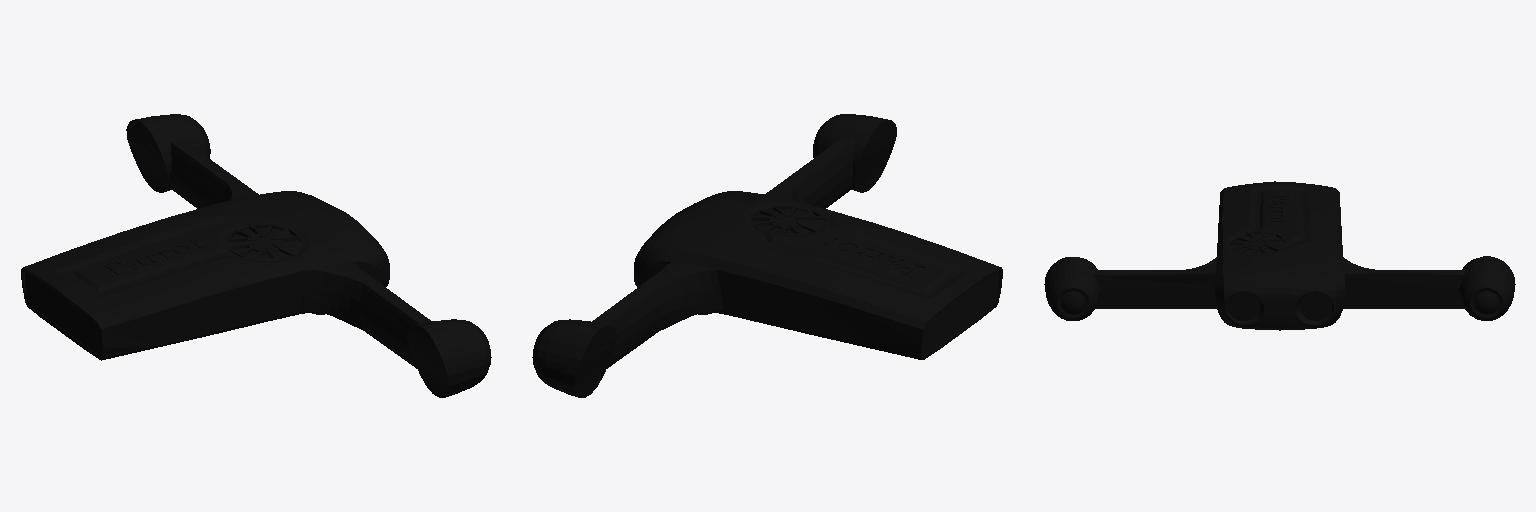
The robot description file, URDF, robot "robot_name":
<robot name="robot_name">
    <link name="cam0">
        <visual name="all">
            <origin xyz="0 0 0" rpy="3.14 0 -1.57" />
            <geometry>
                <mesh filename="package://slamdunk_visualization/models/slamdunk.stl" />
            </geometry>
            <material name="material_black">
                <color rgba="0.1 0.1 0.1 1.0"/>
            </material>
        </visual>
    </link>
</robot>

--- Facts derived from the render (not from the file) ---
Views: 3 orthographic renders of the robot side by side, from view 1: azimuth 30°, elevation 25°; view 2: azimuth 150°, elevation 25°; view 3: azimuth 270°, elevation 25°.
Robot: robot_name — 1 links, 0 joints (none); root link cam0; default pose: all joints at 0.
Links seen in each view (by area): view 1: cam0; view 2: cam0; view 3: cam0.
Boxes of the visible links, bbox=[...] form: cam0: bbox=[21, 114, 491, 397]; cam0: bbox=[532, 114, 1002, 397]; cam0: bbox=[1044, 181, 1515, 330].
Size in the robot's own frame: 0.1243 by 0.2279 by 0.0309 metres.
1 mesh visuals loaded from 1 distinct referenced files (1 binary STL).